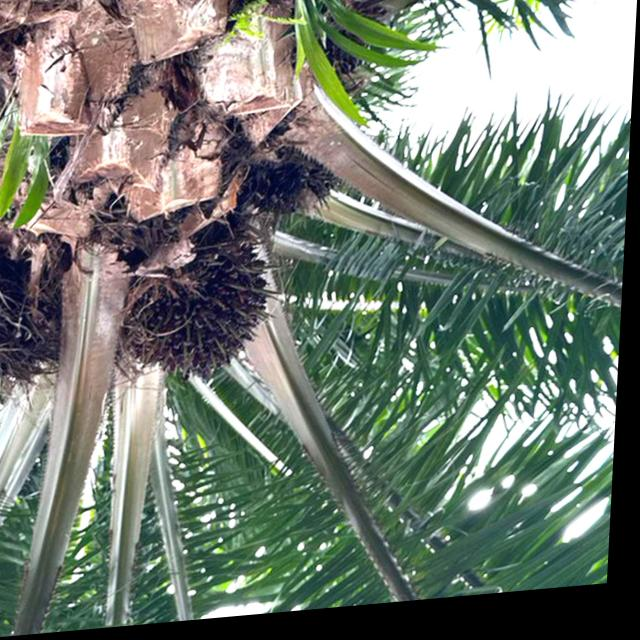almost: (114, 231, 289, 400)
